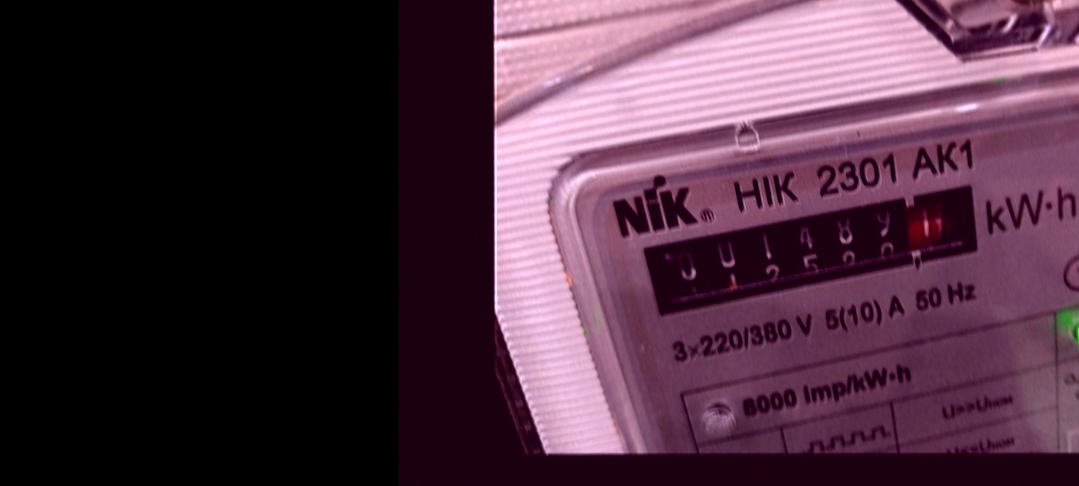0: (714, 234, 740, 270), (676, 248, 700, 283)
1: (917, 201, 936, 239), (758, 230, 778, 261)
4: (796, 220, 818, 251)
8: (836, 212, 857, 248)
9: (875, 206, 895, 238)
screen: (633, 175, 1008, 327)
